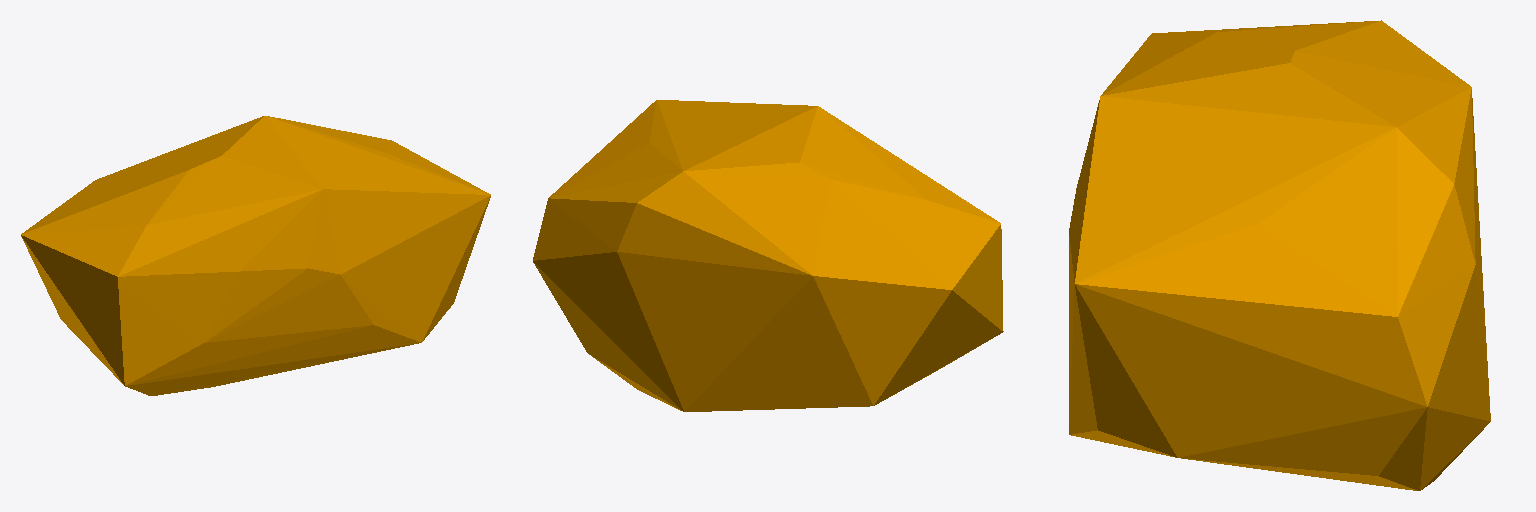
URDF robot description (23_379):
<?xml version="1.0"?>
<robot name="23_379">
  <link name="link">
    <contact>
      <lateral_friction value="0.6"/>
    </contact>
    <inertial>
      <mass value = "0.12130266336466057"/>
      <inertia ixx="1.7626700937776676e-05" ixy="-8.220118990988899e-07" ixz="3.021397206250346e-07" iyy="3.3820783129562824e-05" iyz="-8.912438285874384e-07" izz="3.708453955338517e-05" />
    </inertial>
    <visual name="visual">
      <geometry>
        <mesh filename="23_379.obj"/>
      </geometry>
    </visual>
    <collision name="collision">
      <geometry>
        <mesh filename="23_379.obj"/>
      </geometry>
    </collision>
  </link>
</robot>

--- Render facts (derived) ---
Views: 3 orthographic renders of the robot side by side, from view 1: azimuth 30°, elevation 25°; view 2: azimuth 150°, elevation 25°; view 3: azimuth 270°, elevation 25°.
Robot: 23_379 — 1 links, 0 joints (none); root link link; default pose: every joint at zero.
Links seen in each view (by area): view 1: link; view 2: link; view 3: link.
Boxes of the visible links, <box> form: link: <box>21,116,490,395</box>; link: <box>533,100,1003,411</box>; link: <box>1069,20,1490,490</box>.
Bounding box of the posed robot: 0.0626 × 0.0374 × 0.0326 m (x, y, z).
Meshes: 1 distinct files referenced, 1 mesh visuals loaded (1 OBJ).
